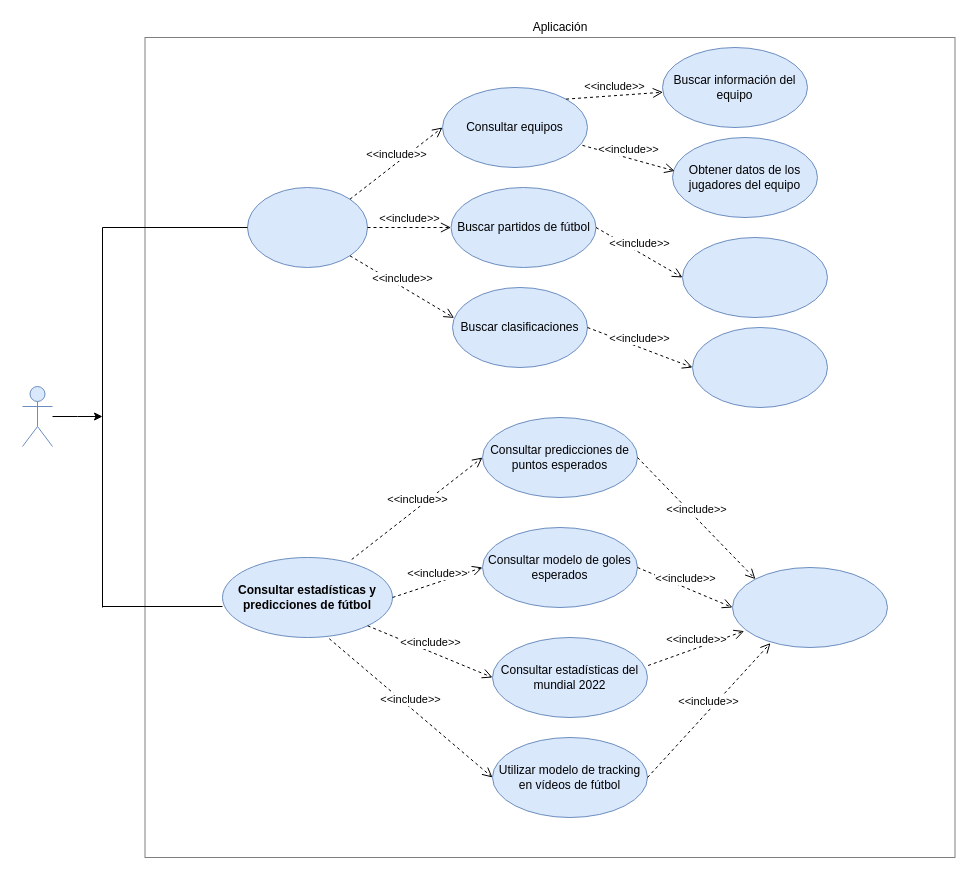
This 973x875 diagram has some shape labels left out. Each missing label, with the centre of its shape:
Buscar resultados de partidos: (755,277)
Consultar datos de fútbol: (307,227)
iniciar sesión: (810,607)
Usuario: (37,416)
Ver tabla de posiciones: (760,367)
